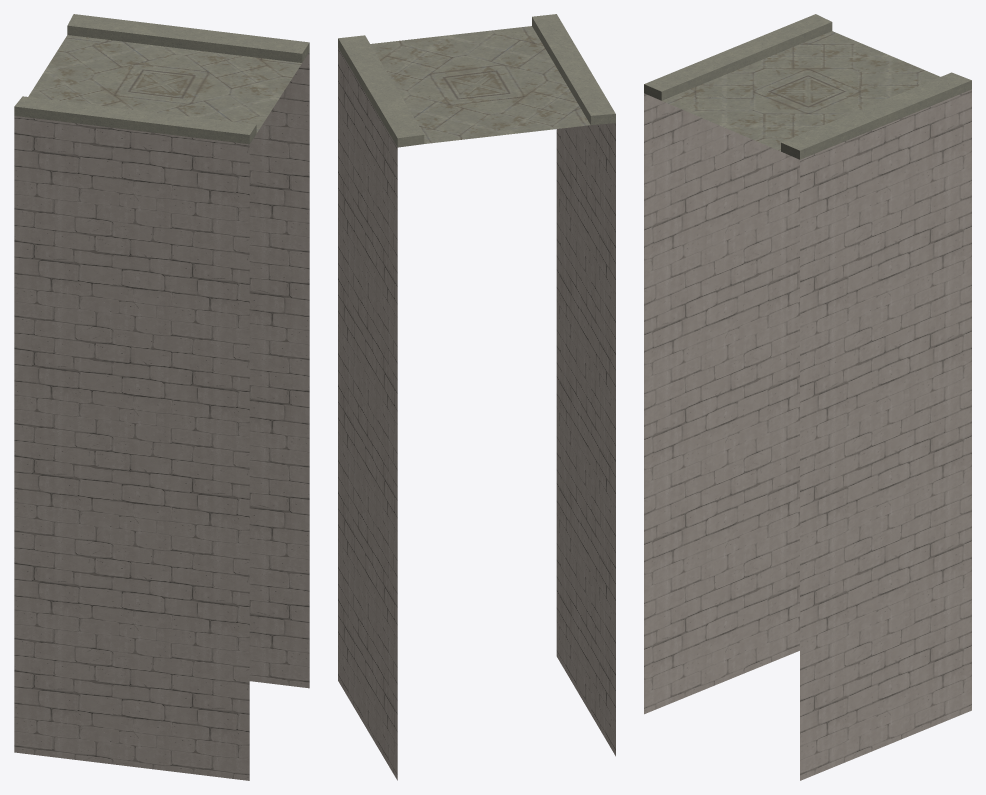
Rendered from AD_Ground_H_01.fbx.
3 renders of one model, left to right at view 1: azimuth 30°, elevation 25°; view 2: azimuth 150°, elevation 25°; view 3: azimuth 270°, elevation 25°, orthographic. The views are drawn at different scales.
Parts seen in each view (by area): view 1: AD_Ground_H_01; view 2: AD_Ground_H_01; view 3: AD_Ground_H_01.
Part boxes in pixels (<box>): AD_Ground_H_01: <box>14,14,309,780</box>; AD_Ground_H_01: <box>338,14,615,780</box>; AD_Ground_H_01: <box>644,14,971,780</box>.
Size of the model in its own units: 2797 by 6012 by 2835.
Materials: 3 (3 with a texture image).
